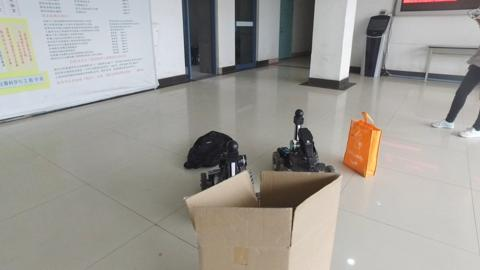bag: (345, 109, 381, 183)
chariot: (280, 110, 332, 174)
